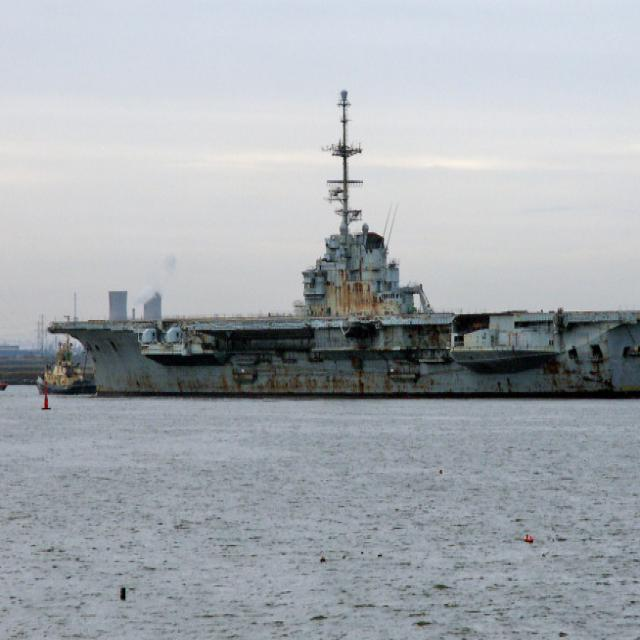Portanaves: (48, 82, 640, 402)
